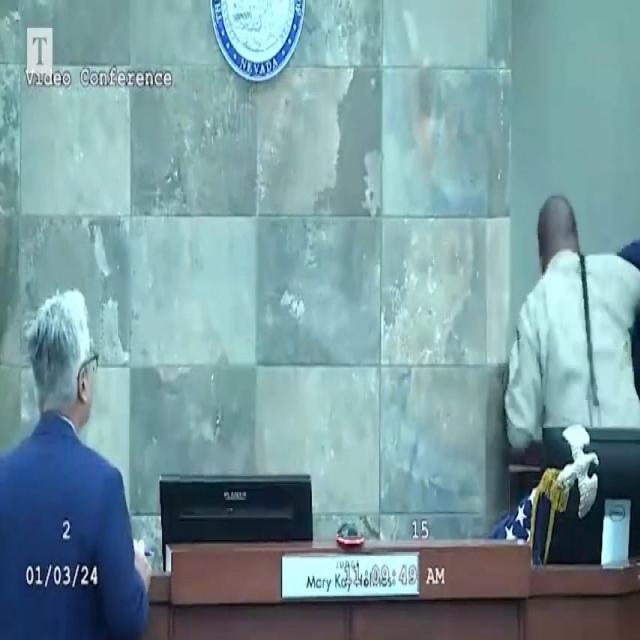fight: (467, 175, 640, 566)
non-fight: (0, 278, 153, 640)
